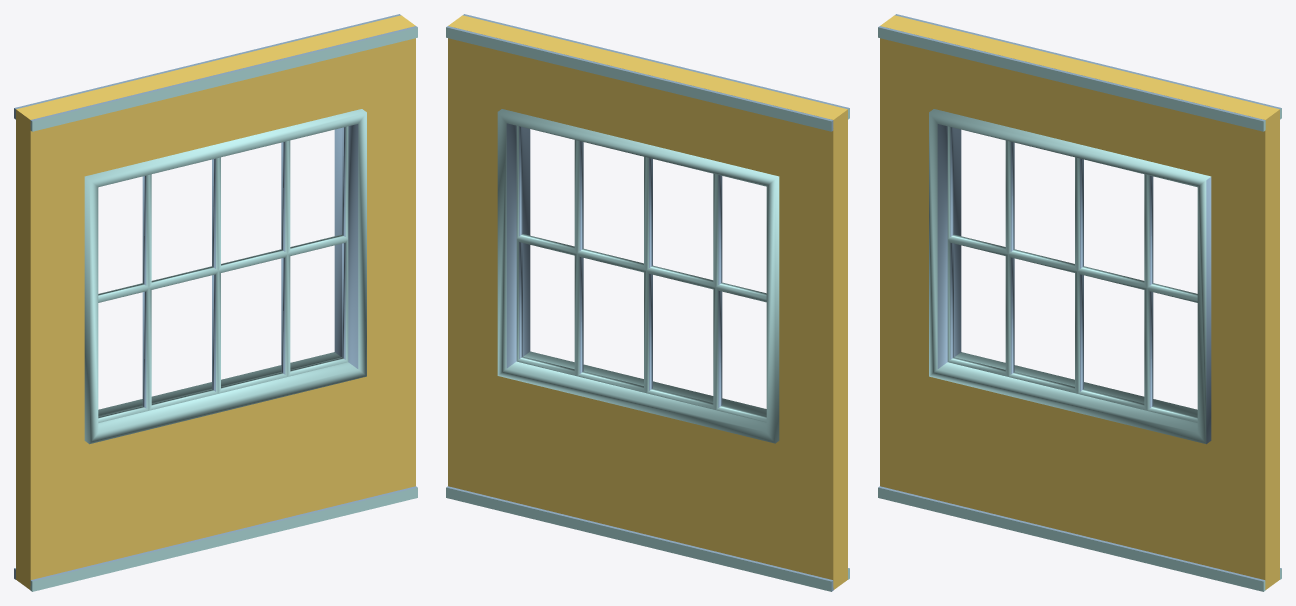
File: Wall Big Window.fbx
3 renders of one model, left to right at view 1: azimuth 30°, elevation 25°; view 2: azimuth 150°, elevation 25°; view 3: azimuth 330°, elevation 25°, orthographic.
Parts seen in each view (by area): view 1: Wall Big Window; view 2: Wall Big Window; view 3: Wall Big Window.
Boxes of the visible parts, <box> form: Wall Big Window: <box>14,14,417,591</box>; Wall Big Window: <box>446,14,849,591</box>; Wall Big Window: <box>878,14,1281,591</box>.
Bounding box in the file's own units: 600 × 700 × 64.
